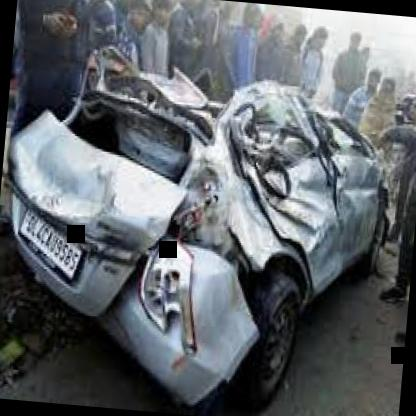accident: (0, 40, 413, 416)
